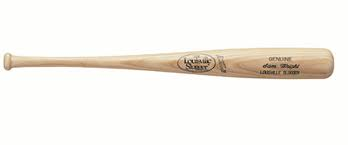bat: (1, 46, 336, 81)
